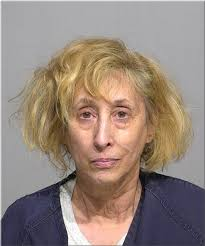s.white: (113, 118, 143, 168)
